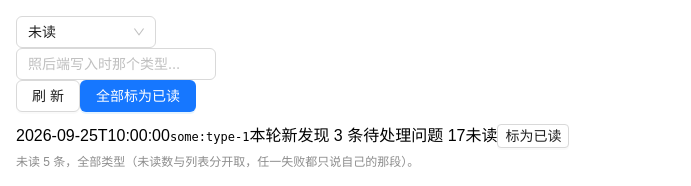
Test: 筛了什么就只动什么，念的也是同一份范围 › 筛了类型：列表、未读数、全部标为已读 都只带这一类
Step 1. Type "  AI  " into the field with placeholder "照后端写入时那个类型码填" → (108, 64), box [28, 53, 188, 75]
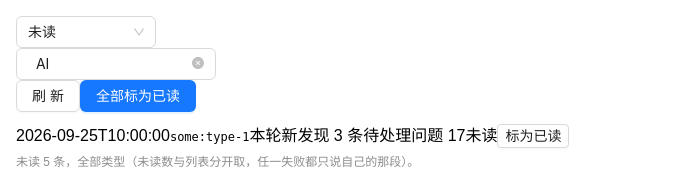
Step 2. Click the button "刷 新" → (48, 96), box [16, 80, 80, 112]
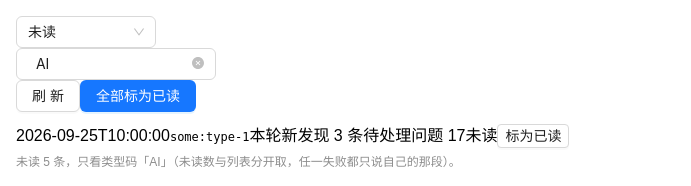
Check: the text "只看类型码「AI」" is shown, box [16, 155, 461, 169]
Step 3. Click the button "全部标为已读" → (138, 96), box [80, 80, 196, 112]
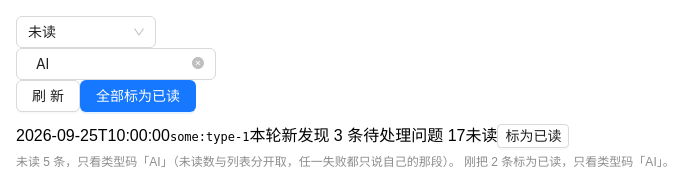
Check: the text "刚把 2 条标为已读，只看类型码「AI」" is shown, box [464, 155, 675, 169]
